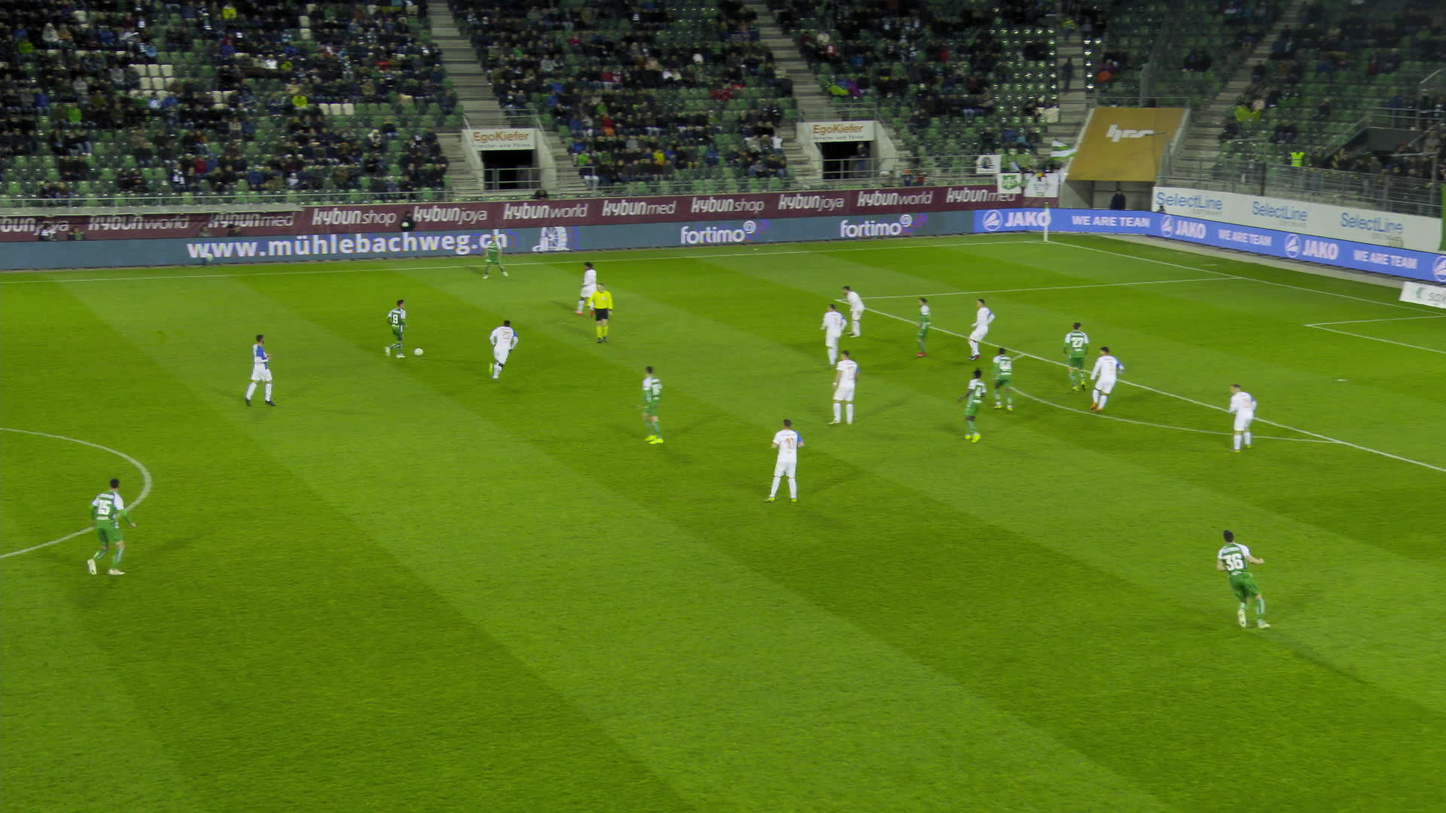ball: (414, 348, 423, 355)
player: (82, 473, 139, 578), (1216, 529, 1266, 634), (770, 417, 808, 503), (638, 367, 679, 443), (239, 336, 279, 405), (1094, 343, 1130, 413), (1231, 385, 1263, 455), (834, 350, 863, 425), (1066, 320, 1096, 391), (966, 366, 993, 442), (966, 299, 999, 360), (489, 321, 520, 384), (377, 300, 409, 360), (994, 346, 1020, 412), (827, 303, 853, 366), (581, 263, 608, 317), (919, 297, 938, 358), (847, 285, 868, 338), (485, 233, 508, 279)
referee: (591, 285, 620, 344)
